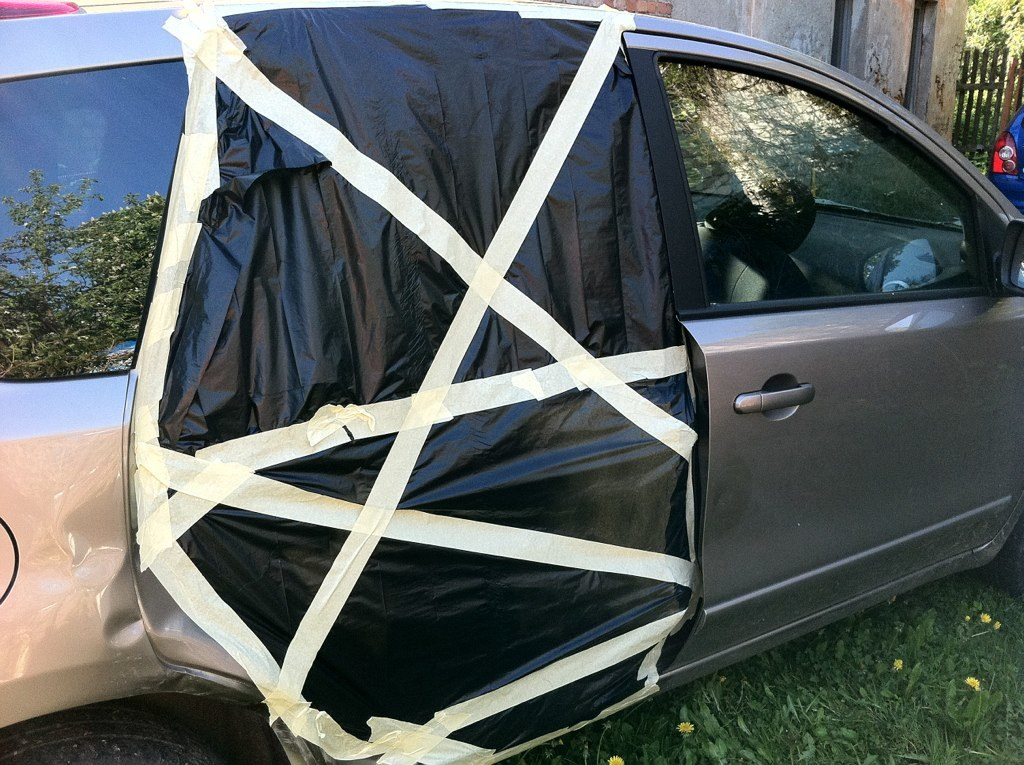Car: (53, 42, 1000, 765)
